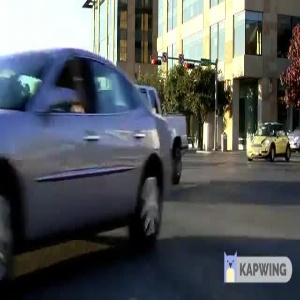car: (1, 45, 177, 281), (238, 118, 297, 168)
